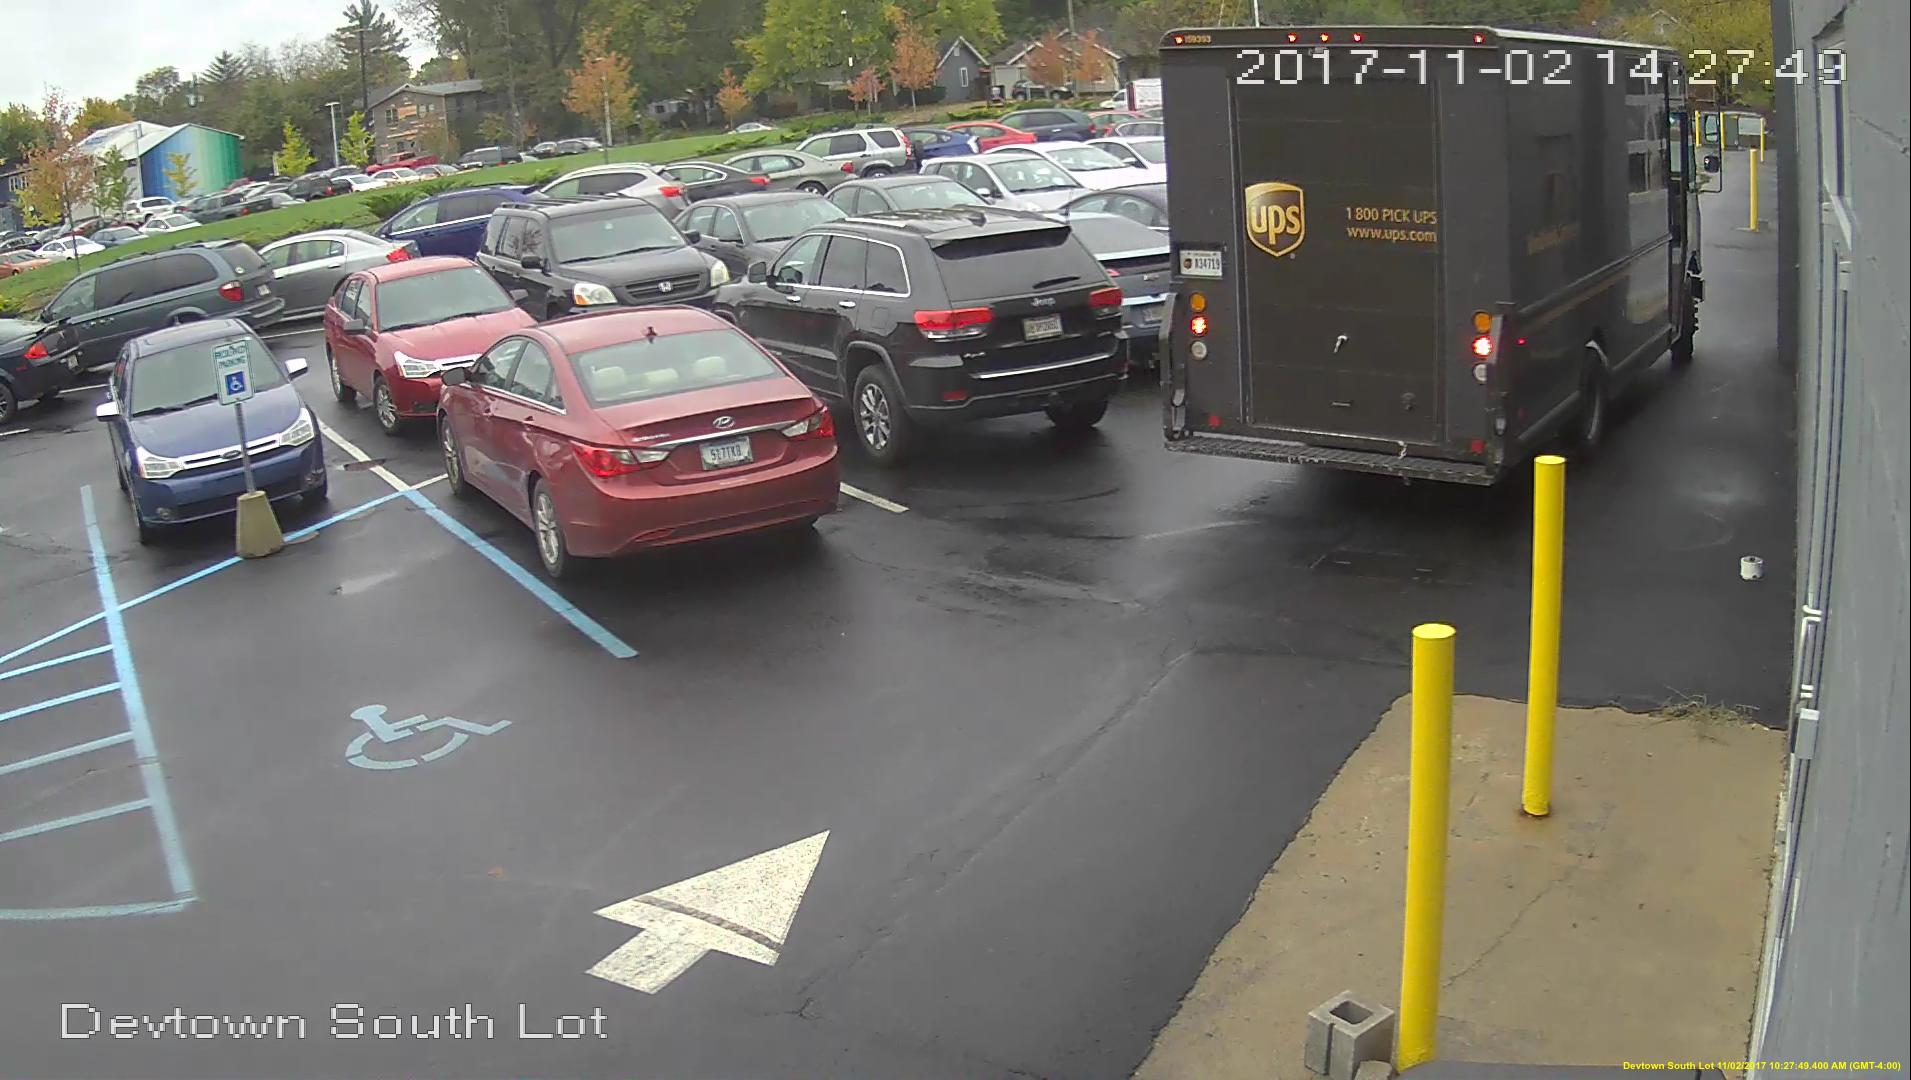ups_truck: (1165, 28, 1701, 487)
